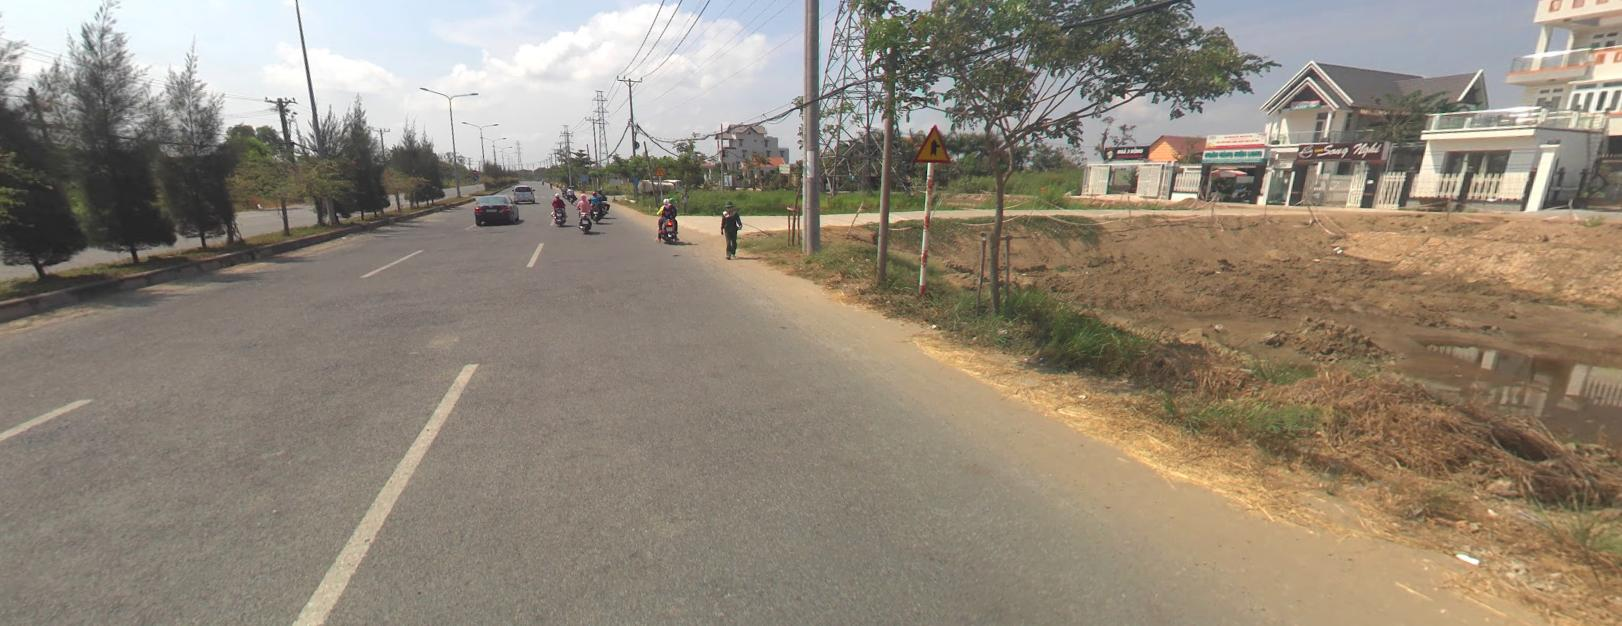Cam nguoc chieu: (472, 169, 477, 173)
Hieu lenh: (473, 174, 478, 179)
Nguy hiem: (914, 125, 949, 161), (654, 166, 664, 174)
